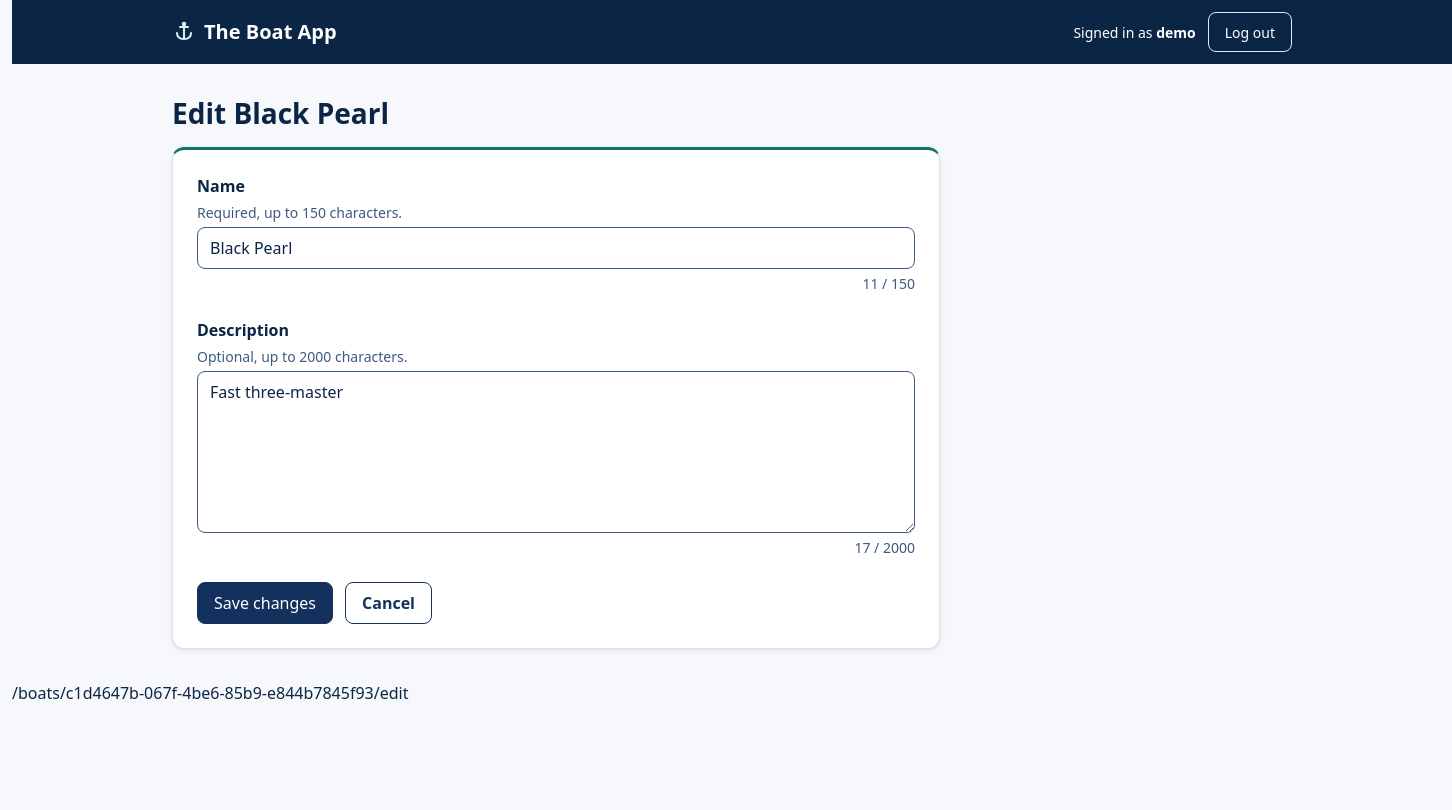
Test: EditBoatPage › keeps unsaved input when a background refetch gets a 401, and offers to sign in again
Type " II" into the field labelled "Name". click: x=556, y=248
box: [197,227,915,269]
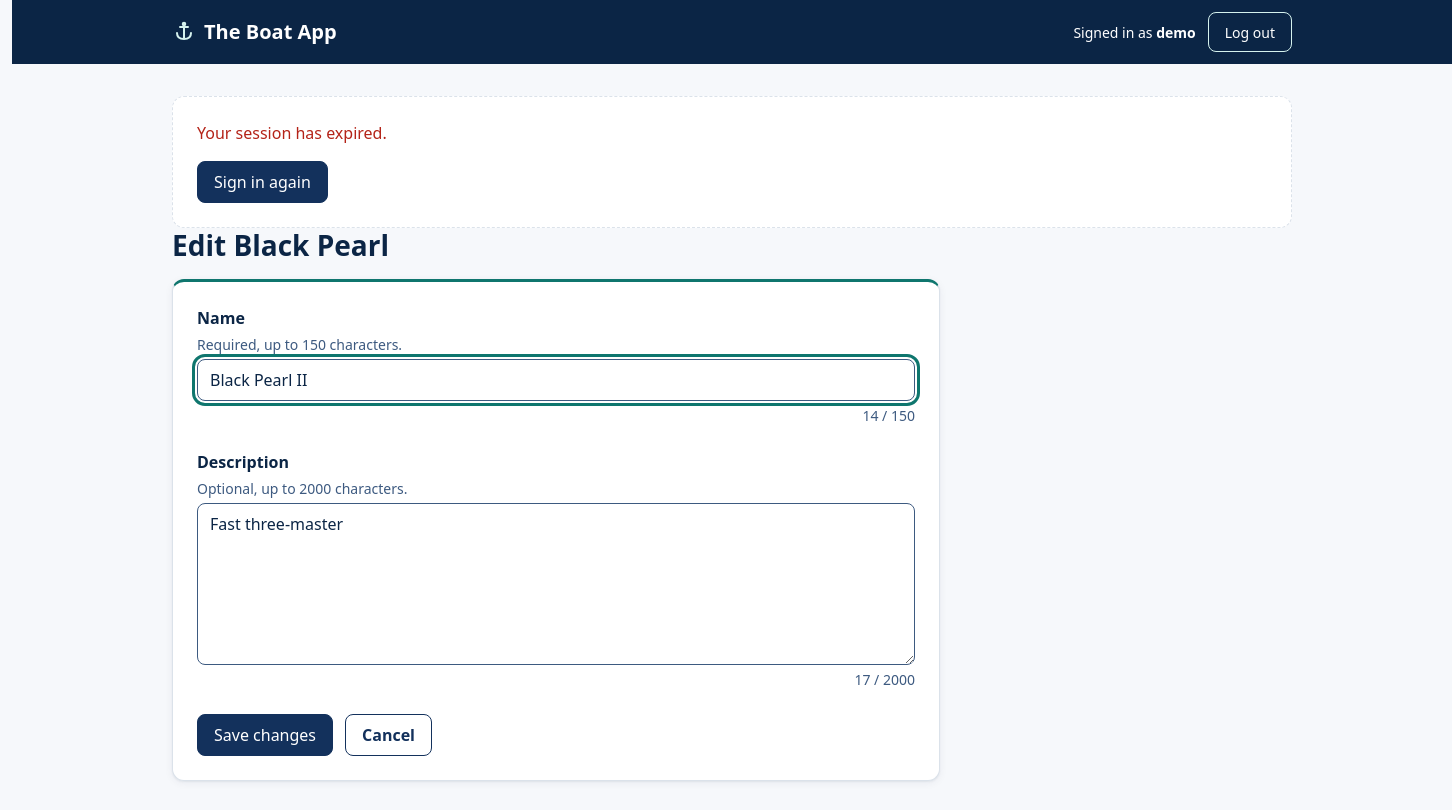
expect the message reads "Your session has expired.": met, box [197,122,387,144]
expect the button "Sign in again" is shown: met, box [197,161,328,203]
expect the field labelled "Name" holds "Black Pearl II": met, box [197,359,915,401]
